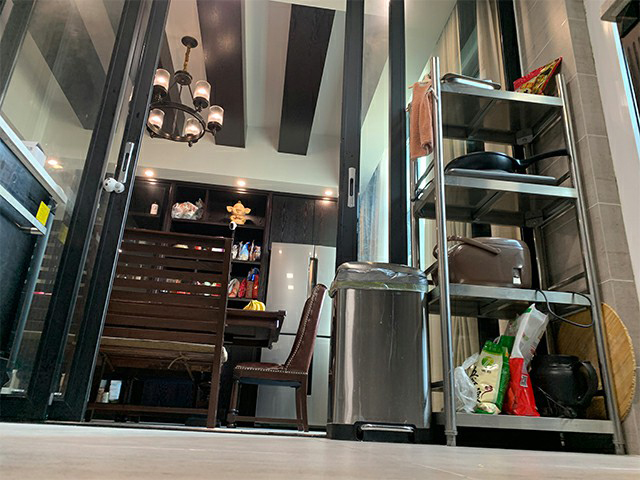stool: (84, 228, 235, 428), (225, 282, 327, 432)
trashcan: (330, 261, 434, 445)
